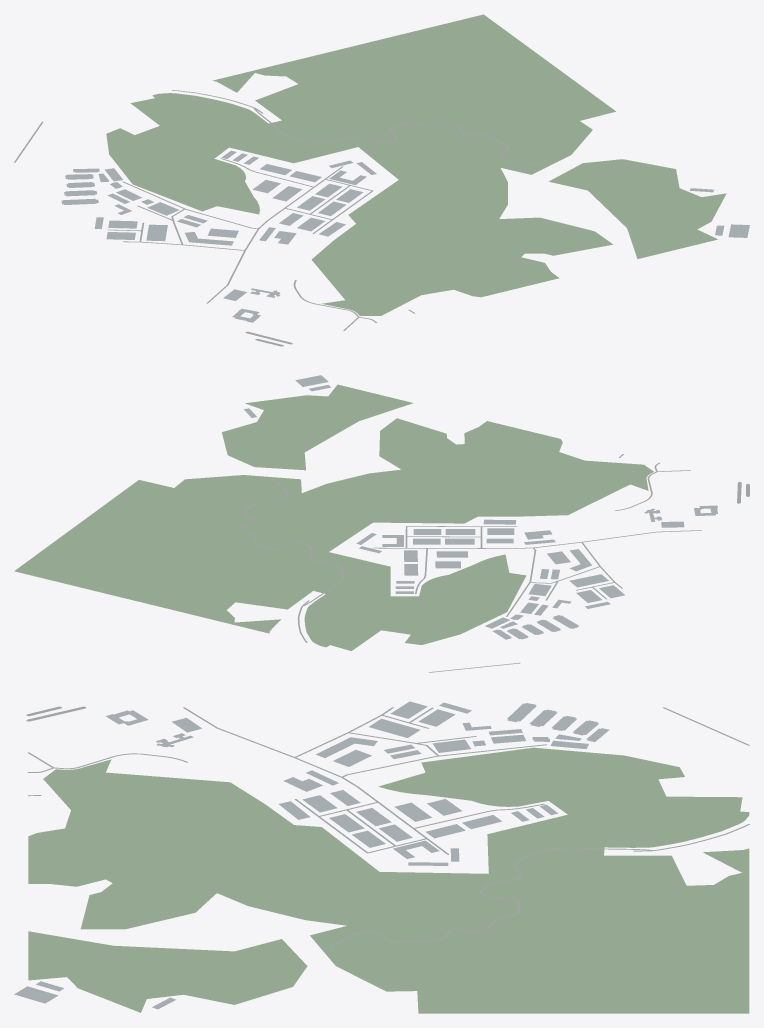
Rendered from -9_17-known-fine.glb.
3 renders of one model, top to bottom at view 1: azimuth 30°, elevation 25°; view 2: azimuth 150°, elevation 25°; view 3: azimuth 270°, elevation 25°, orthographic. The views are drawn at different scales.
Size of the model in its own units: 1019 by 0.15 by 1016.
